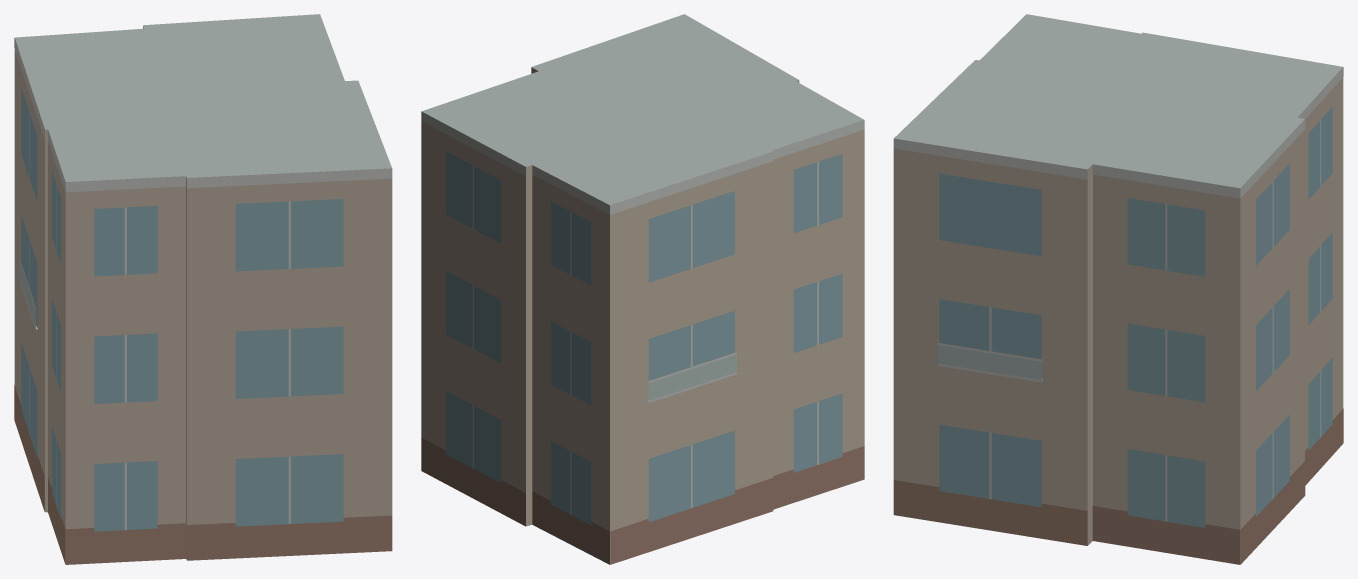
File: survey-upis-32490366.glb
The picture shows the model from 3 angles, left to right: view 1: azimuth 30°, elevation 25°; view 2: azimuth 150°, elevation 25°; view 3: azimuth 270°, elevation 25°; orthographic projection. The views are drawn at different scales.
Visible parts, largest first — view 1: survey-upis-32490366.tmp; view 2: survey-upis-32490366.tmp; view 3: survey-upis-32490366.tmp.
Part boxes in pixels (box(x1,y1,x2,y2)): survey-upis-32490366.tmp: box(14, 14, 392, 564); survey-upis-32490366.tmp: box(421, 14, 864, 564); survey-upis-32490366.tmp: box(893, 14, 1343, 564).
Size of the model in its own units: 9.04 by 9.1 by 9.86.
